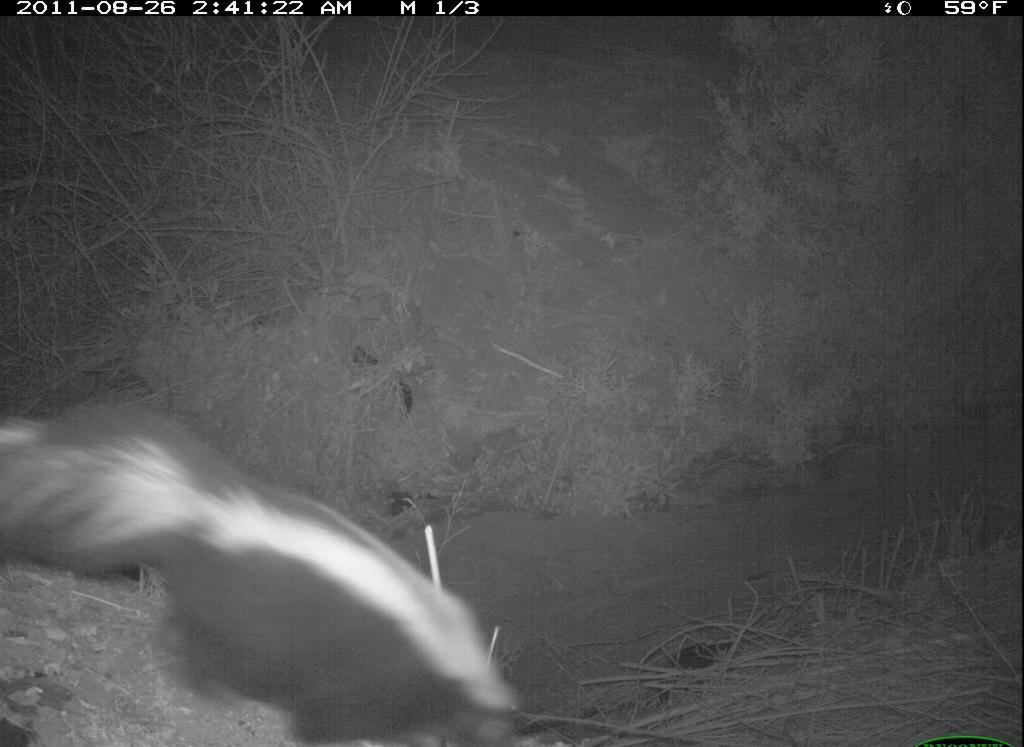skunk: (6, 391, 519, 740)
